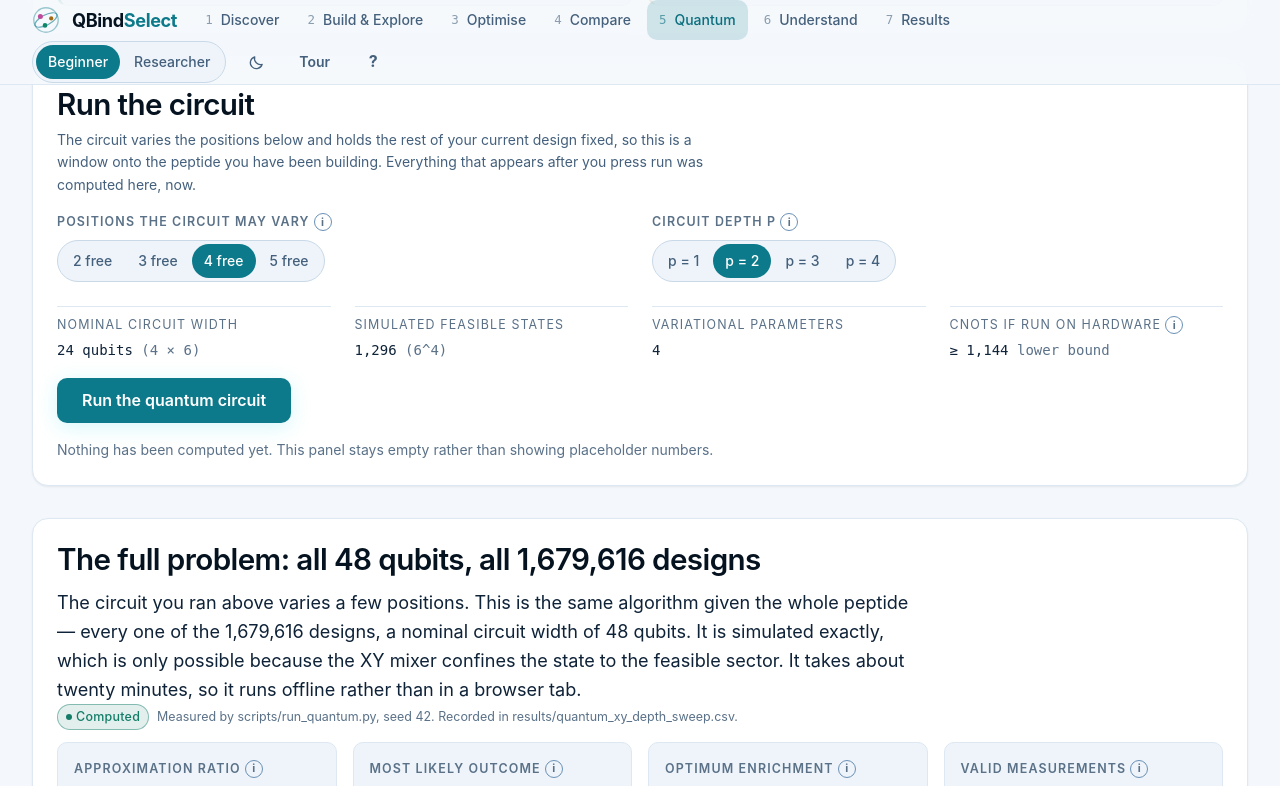
Test: Quantum screen: the live run › describes the circuit stages that actually ran, with gate counts
(page scrolled)
Click the button "Run the quantum circuit" at (174, 400), box x1=57 y1=378 x2=291 y2=423
(page scrolled)
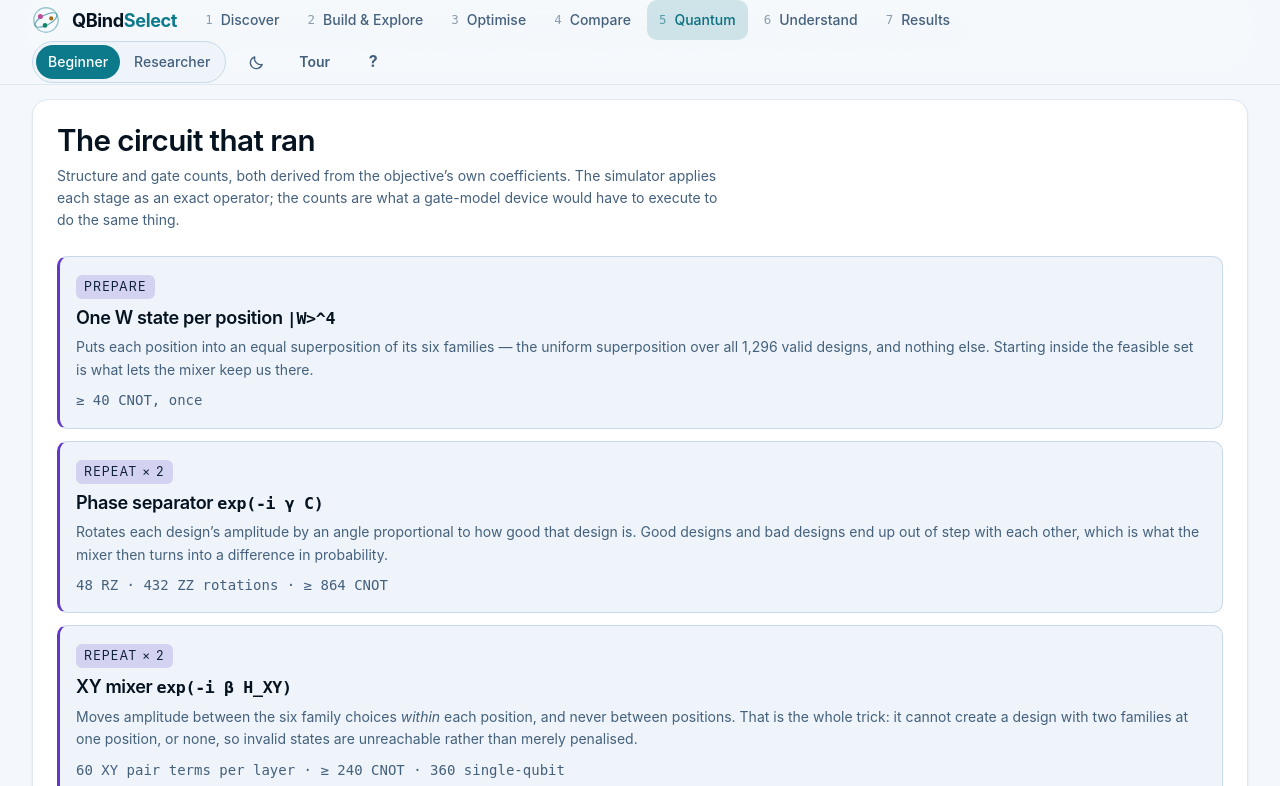
Check: the heading "Phase separator" is shown, box x1=76 y1=491 x2=217 y2=513
Check: the heading "XY mixer" is shown, box x1=76 y1=675 x2=156 y2=697
Check: the text "≥ 40 CNOT, once" is shown, box x1=76 y1=392 x2=202 y2=408
